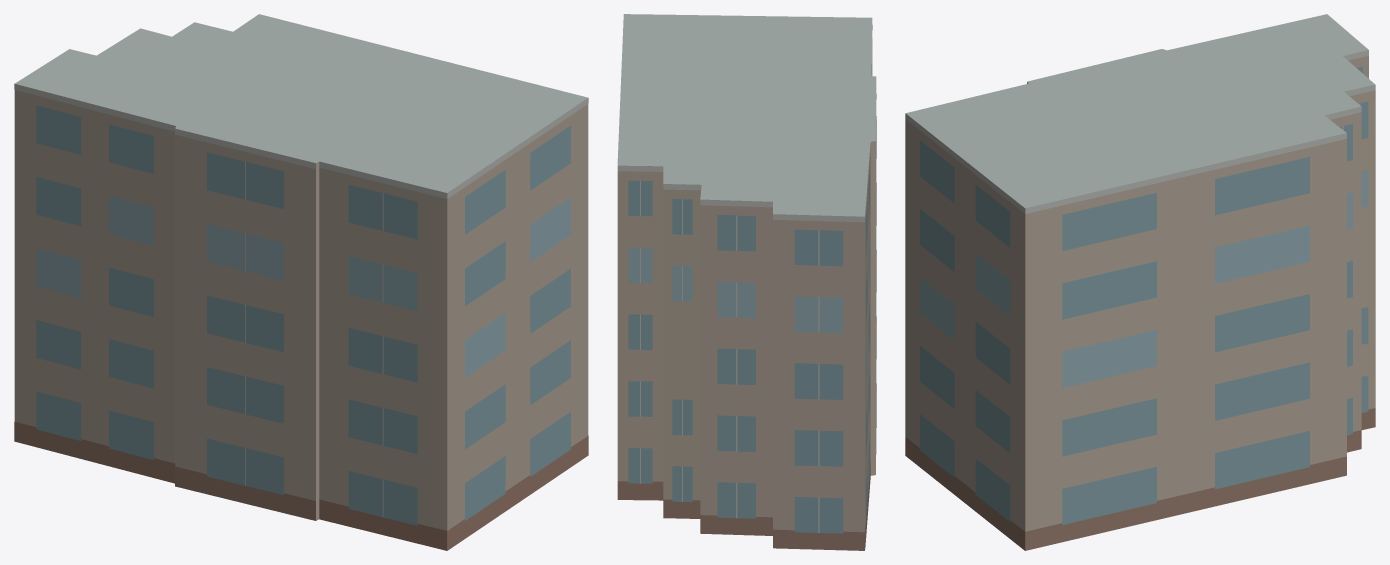
The model's file is survey-upis-32912945.glb.
The picture shows the model from 3 angles, left to right: view 1: azimuth 30°, elevation 25°; view 2: azimuth 150°, elevation 25°; view 3: azimuth 270°, elevation 25°; orthographic projection. The views are drawn at different scales.
Visible parts, largest first — view 1: survey-upis-32912945.tmp; view 2: survey-upis-32912945.tmp; view 3: survey-upis-32912945.tmp.
Boxes of the visible parts, box(x1,y1,x2,y2) form: survey-upis-32912945.tmp: box(14, 14, 588, 550); survey-upis-32912945.tmp: box(617, 14, 876, 550); survey-upis-32912945.tmp: box(905, 14, 1375, 550).
Bounding box in the file's own units: 17.66 × 14.5 × 18.05.
